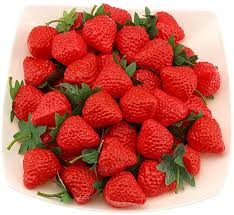Fresa: (61, 156, 104, 206), (52, 114, 100, 156), (101, 170, 148, 210), (186, 113, 227, 158), (22, 147, 63, 191), (80, 89, 124, 129), (135, 117, 174, 161), (157, 63, 199, 103), (29, 89, 72, 128), (81, 12, 119, 56), (20, 52, 61, 90), (148, 9, 187, 47), (134, 38, 176, 70)
